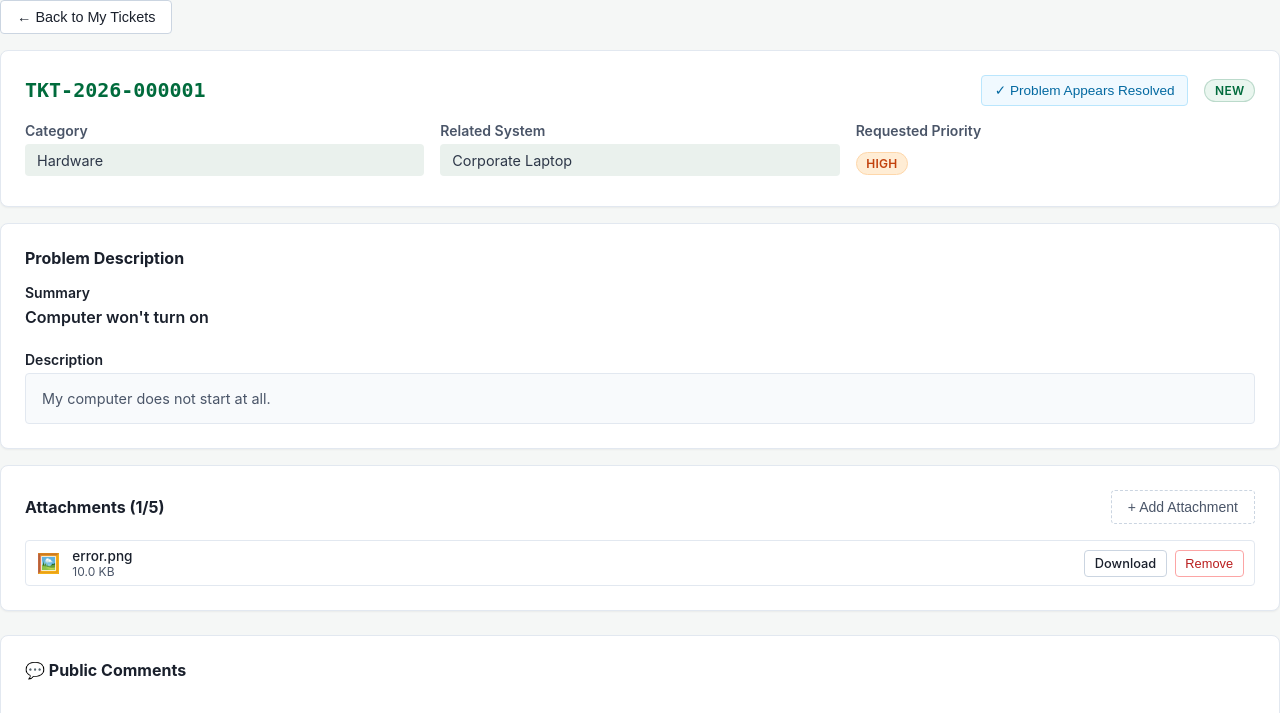
TicketDetailView (Issue 5 - AC-04, AC-07, AC-08) › blocks soft-removal if reason is too short
Expected: the text "error.png" is shown, x1=72 y1=548 x2=132 y2=564
Click the button with test id "remove-attachment-101" at coordinates (1209, 563), box x1=1175 y1=550 x2=1244 y2=576
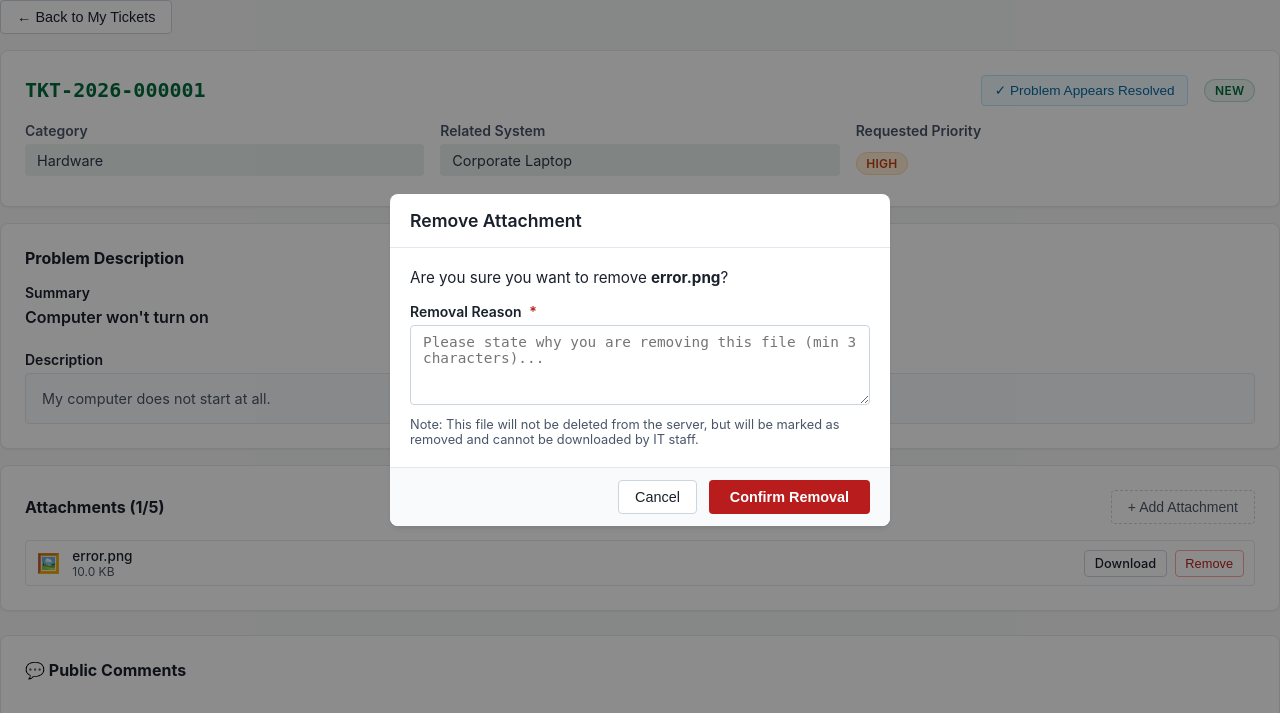
Expected: the text "Removal Reason *" is shown, x1=410 y1=303 x2=537 y2=320
Replace the text in the text box with placeholder "state why you are removing" with "No" at coordinates (640, 365), box x1=410 y1=325 x2=870 y2=405
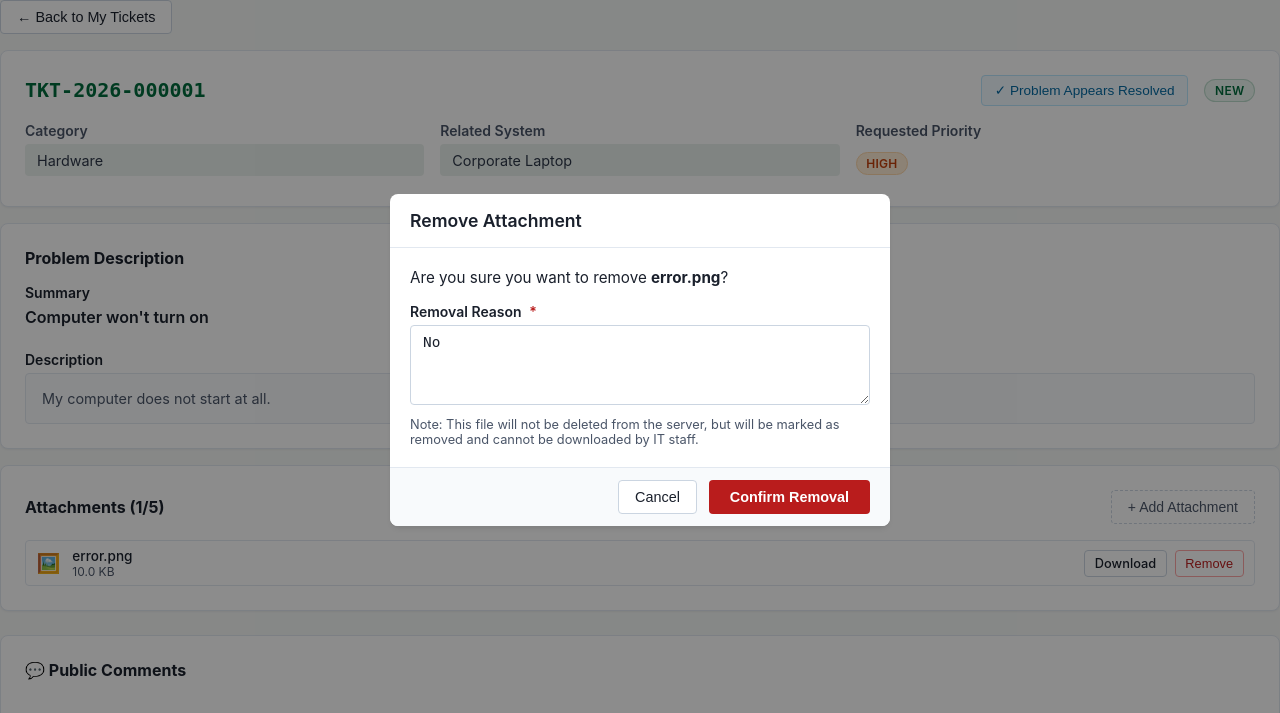
Click the button "Confirm Removal" at coordinates (789, 497), box x1=709 y1=480 x2=870 y2=514
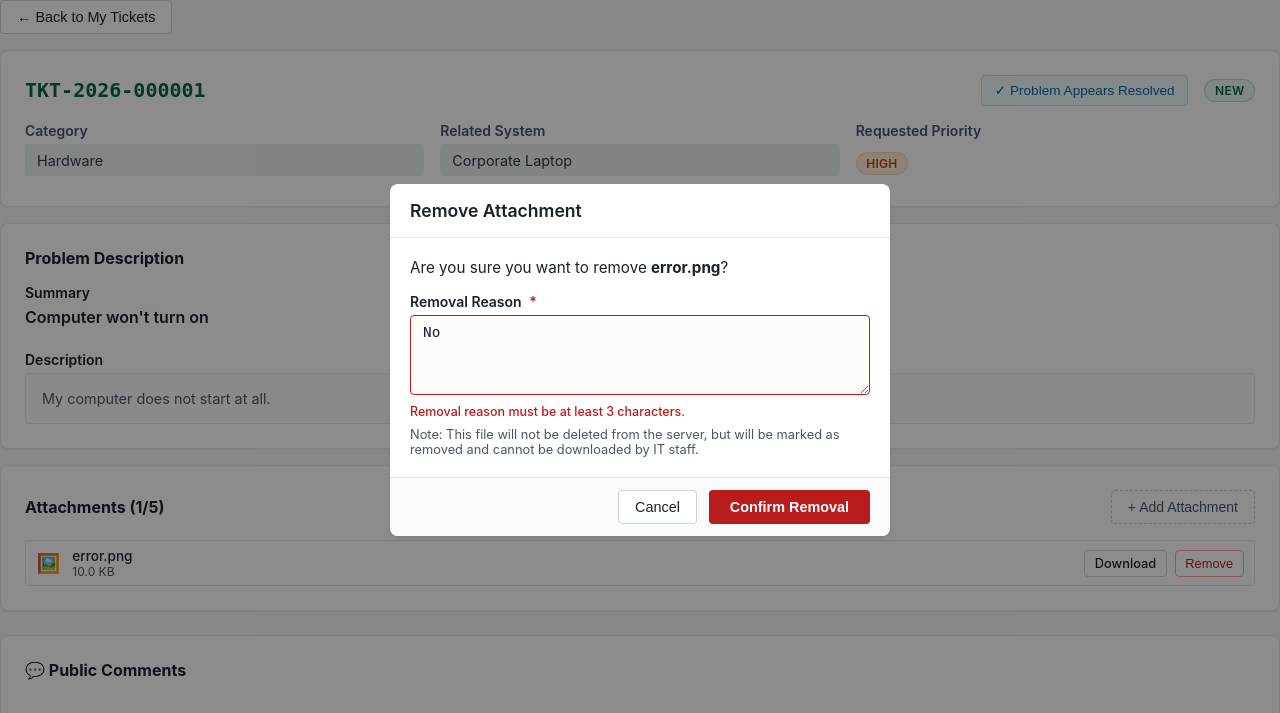
Expected: the text "Removal reason must be at least 3 characters." is shown, x1=410 y1=404 x2=685 y2=419
